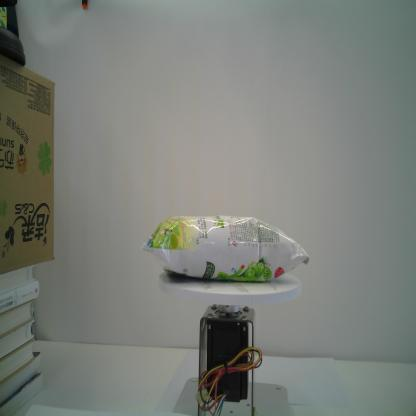Puffed Food: (142, 215, 310, 282)
